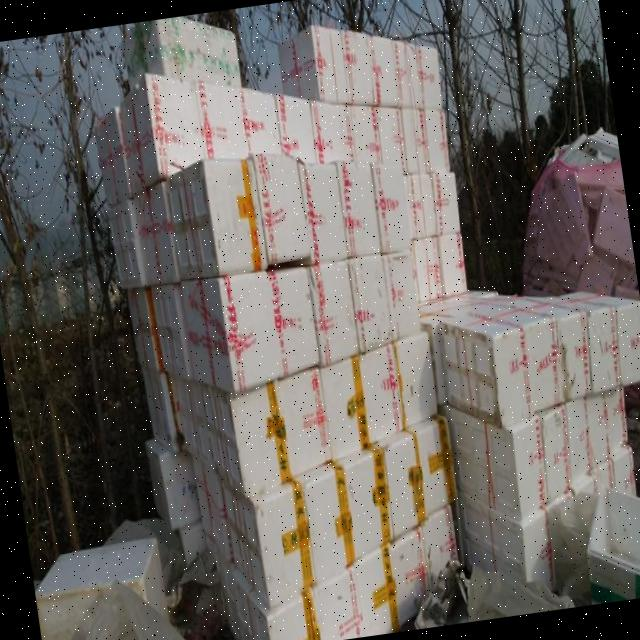styrofoam: (81, 0, 519, 640)
